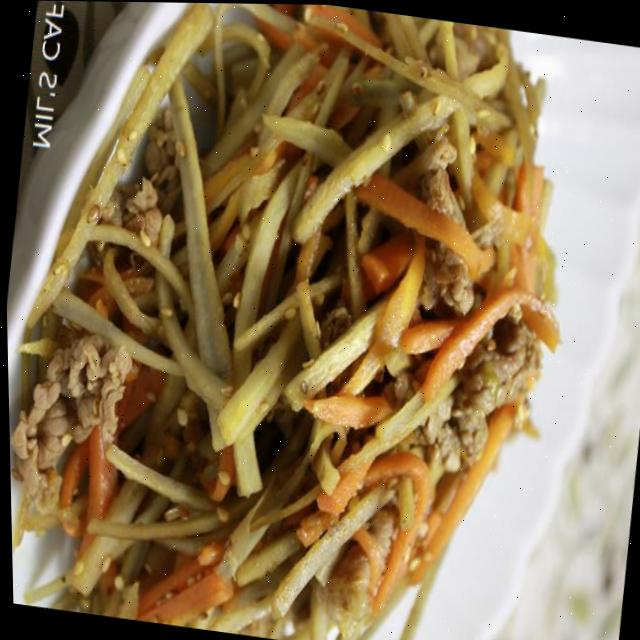蔬菜料理: (0, 0, 607, 640)
